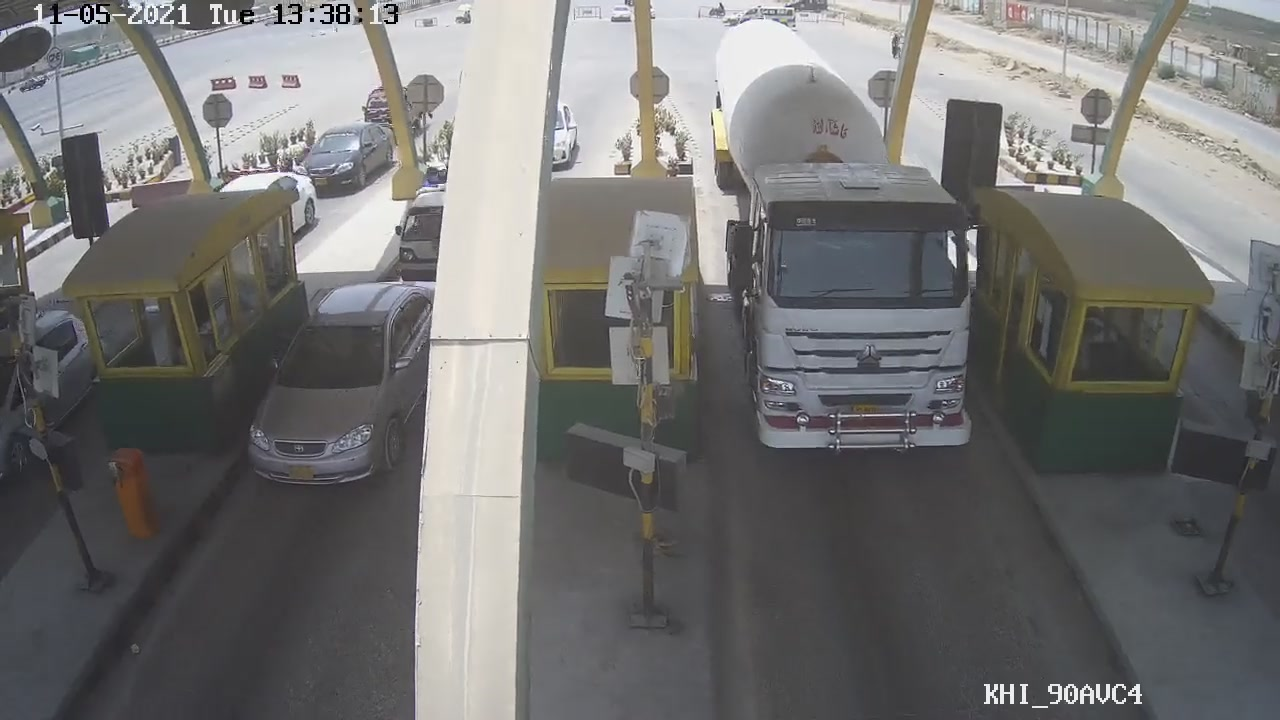F6: (711, 69, 975, 466)
